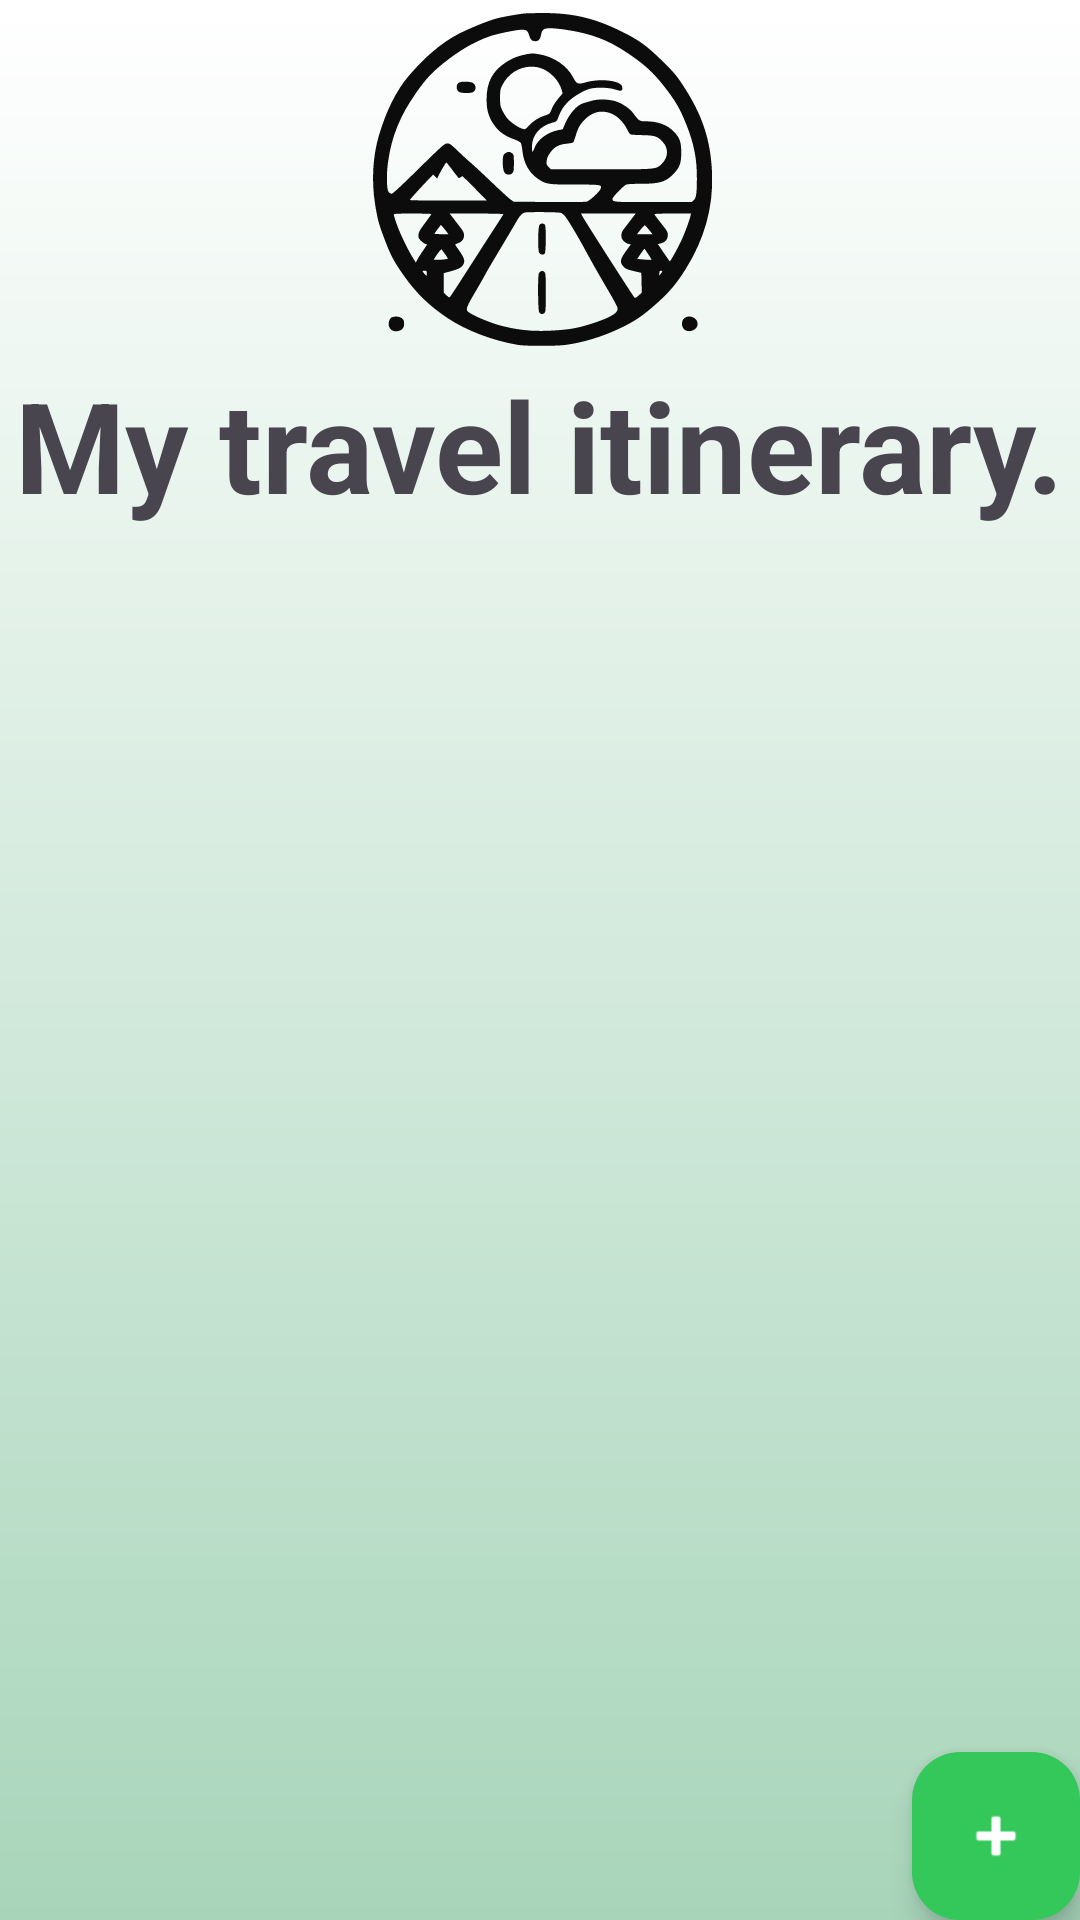

Locate icon controls on the screen. Image size 1080w x 1920h, boxes as (x1, y1, x2, y2).
Add city: (912, 1752, 1080, 1920)
